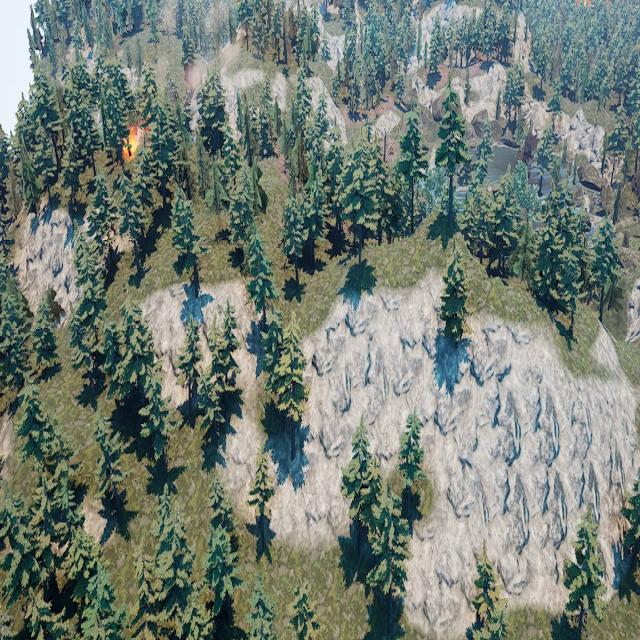fire: (123, 124, 145, 161), (578, 0, 594, 6)
